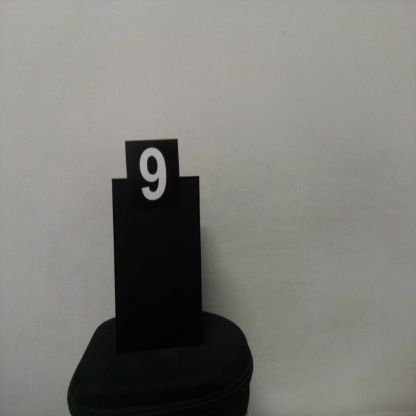id_9: (125, 141, 180, 220)
